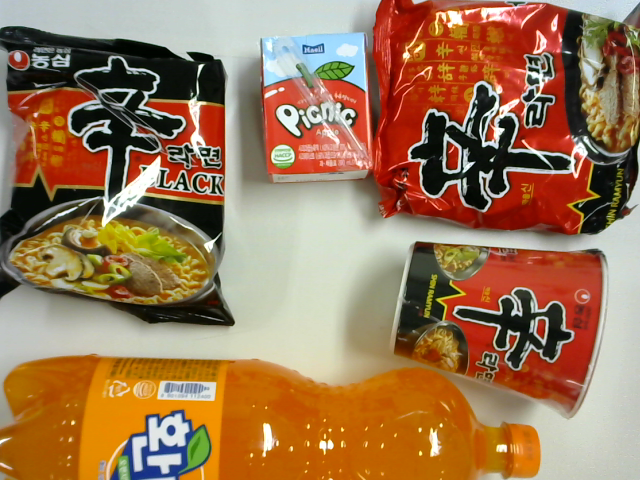Coca_Cola_Zero_Can_250ml: (256, 17, 375, 180)
Hwanta_Orange_1.5L: (1, 351, 538, 479)
Sinramen: (385, 11, 630, 223)
Sinramen_Black: (6, 31, 234, 295)
Sinramen_small: (391, 240, 603, 393)
